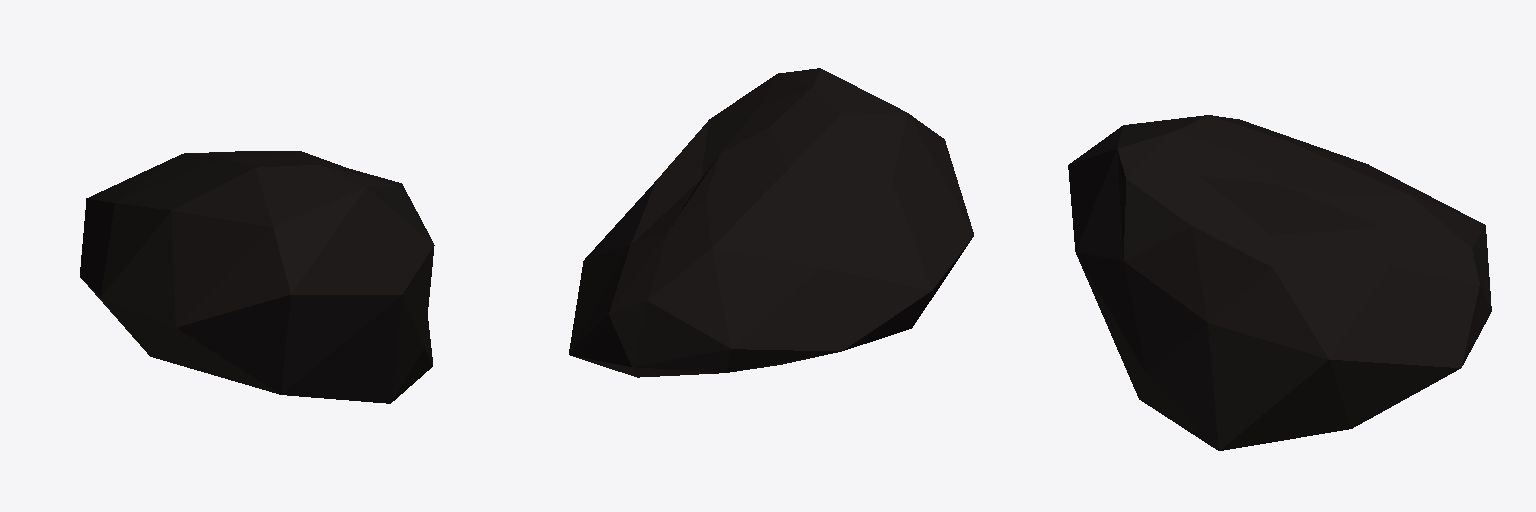
Rendered from tas2.obj.
3 views of the same model, side by side, from view 1: azimuth 30°, elevation 25°; view 2: azimuth 150°, elevation 25°; view 3: azimuth 270°, elevation 25° (orthographic).
Parts seen in each view (by area): view 1: tas2; view 2: tas2; view 3: tas2.
Boxes of the visible parts, <box> form: tas2: <box>80,151,434,403</box>; tas2: <box>569,68,973,377</box>; tas2: <box>1068,115,1491,450</box>.
Bounding box in the file's own units: 35.68 × 27.35 × 40.96.